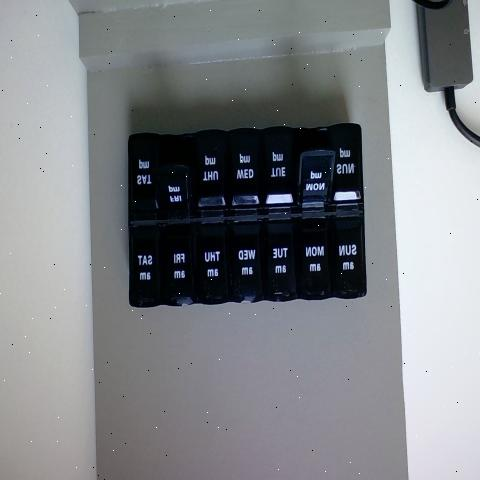FRI-am: (163, 226, 197, 306)
MON-am: (301, 221, 334, 299)
Open: (155, 136, 193, 203), (298, 129, 333, 197)
PillBox: (105, 80, 379, 350)
SAT-am: (130, 228, 161, 308)
SAT-pm: (130, 135, 160, 218)
SUN-am: (336, 215, 364, 298)
SUN-pm: (336, 126, 362, 202)
THU-am: (198, 225, 232, 306)
THU-pm: (195, 133, 229, 216)
TUE-am: (266, 220, 298, 300)
TUE-pm: (267, 131, 295, 208)
WED-am: (233, 223, 264, 303)
WED-pm: (231, 131, 262, 210)
